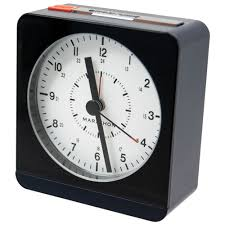alarm_clock: (12, 0, 216, 219), (12, 7, 216, 219)
